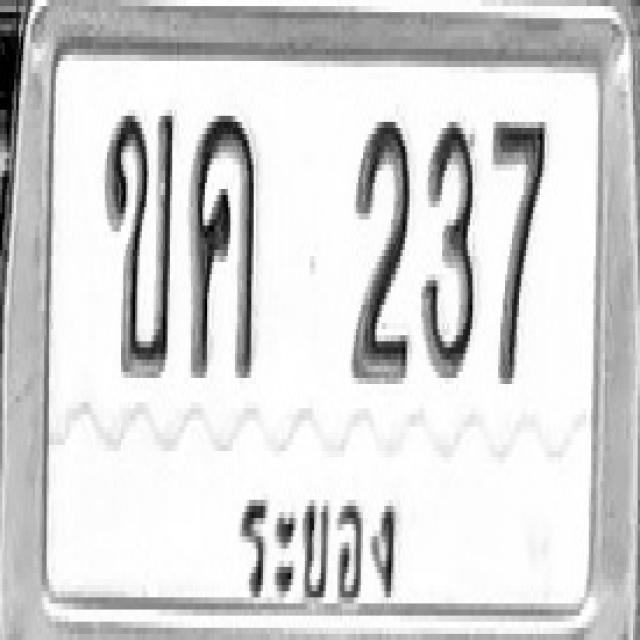11KhorKhai: (104, 107, 174, 375)
13KhorKhwai: (189, 110, 256, 378)
2: (349, 113, 410, 381)
3: (421, 116, 475, 378)
7: (491, 116, 547, 384)
Rayong: (234, 458, 408, 634)
